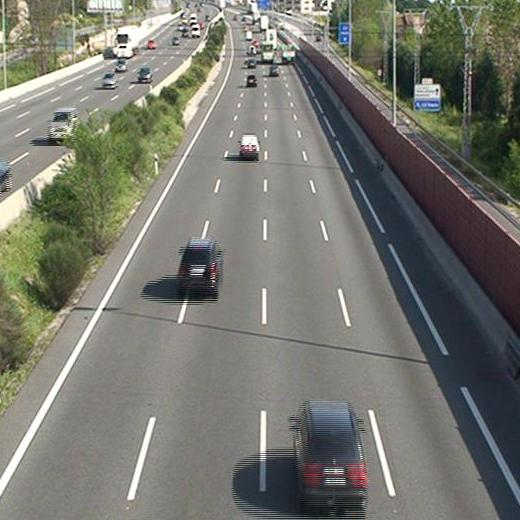bus: (262, 42, 274, 62)
car: (294, 404, 365, 502), (178, 240, 220, 292), (239, 136, 258, 157), (246, 74, 256, 85), (269, 65, 279, 75), (246, 59, 256, 67)
small-truck: (281, 44, 295, 63)
